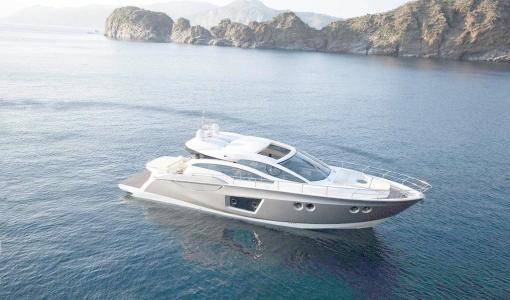yacht: (113, 117, 433, 234)
